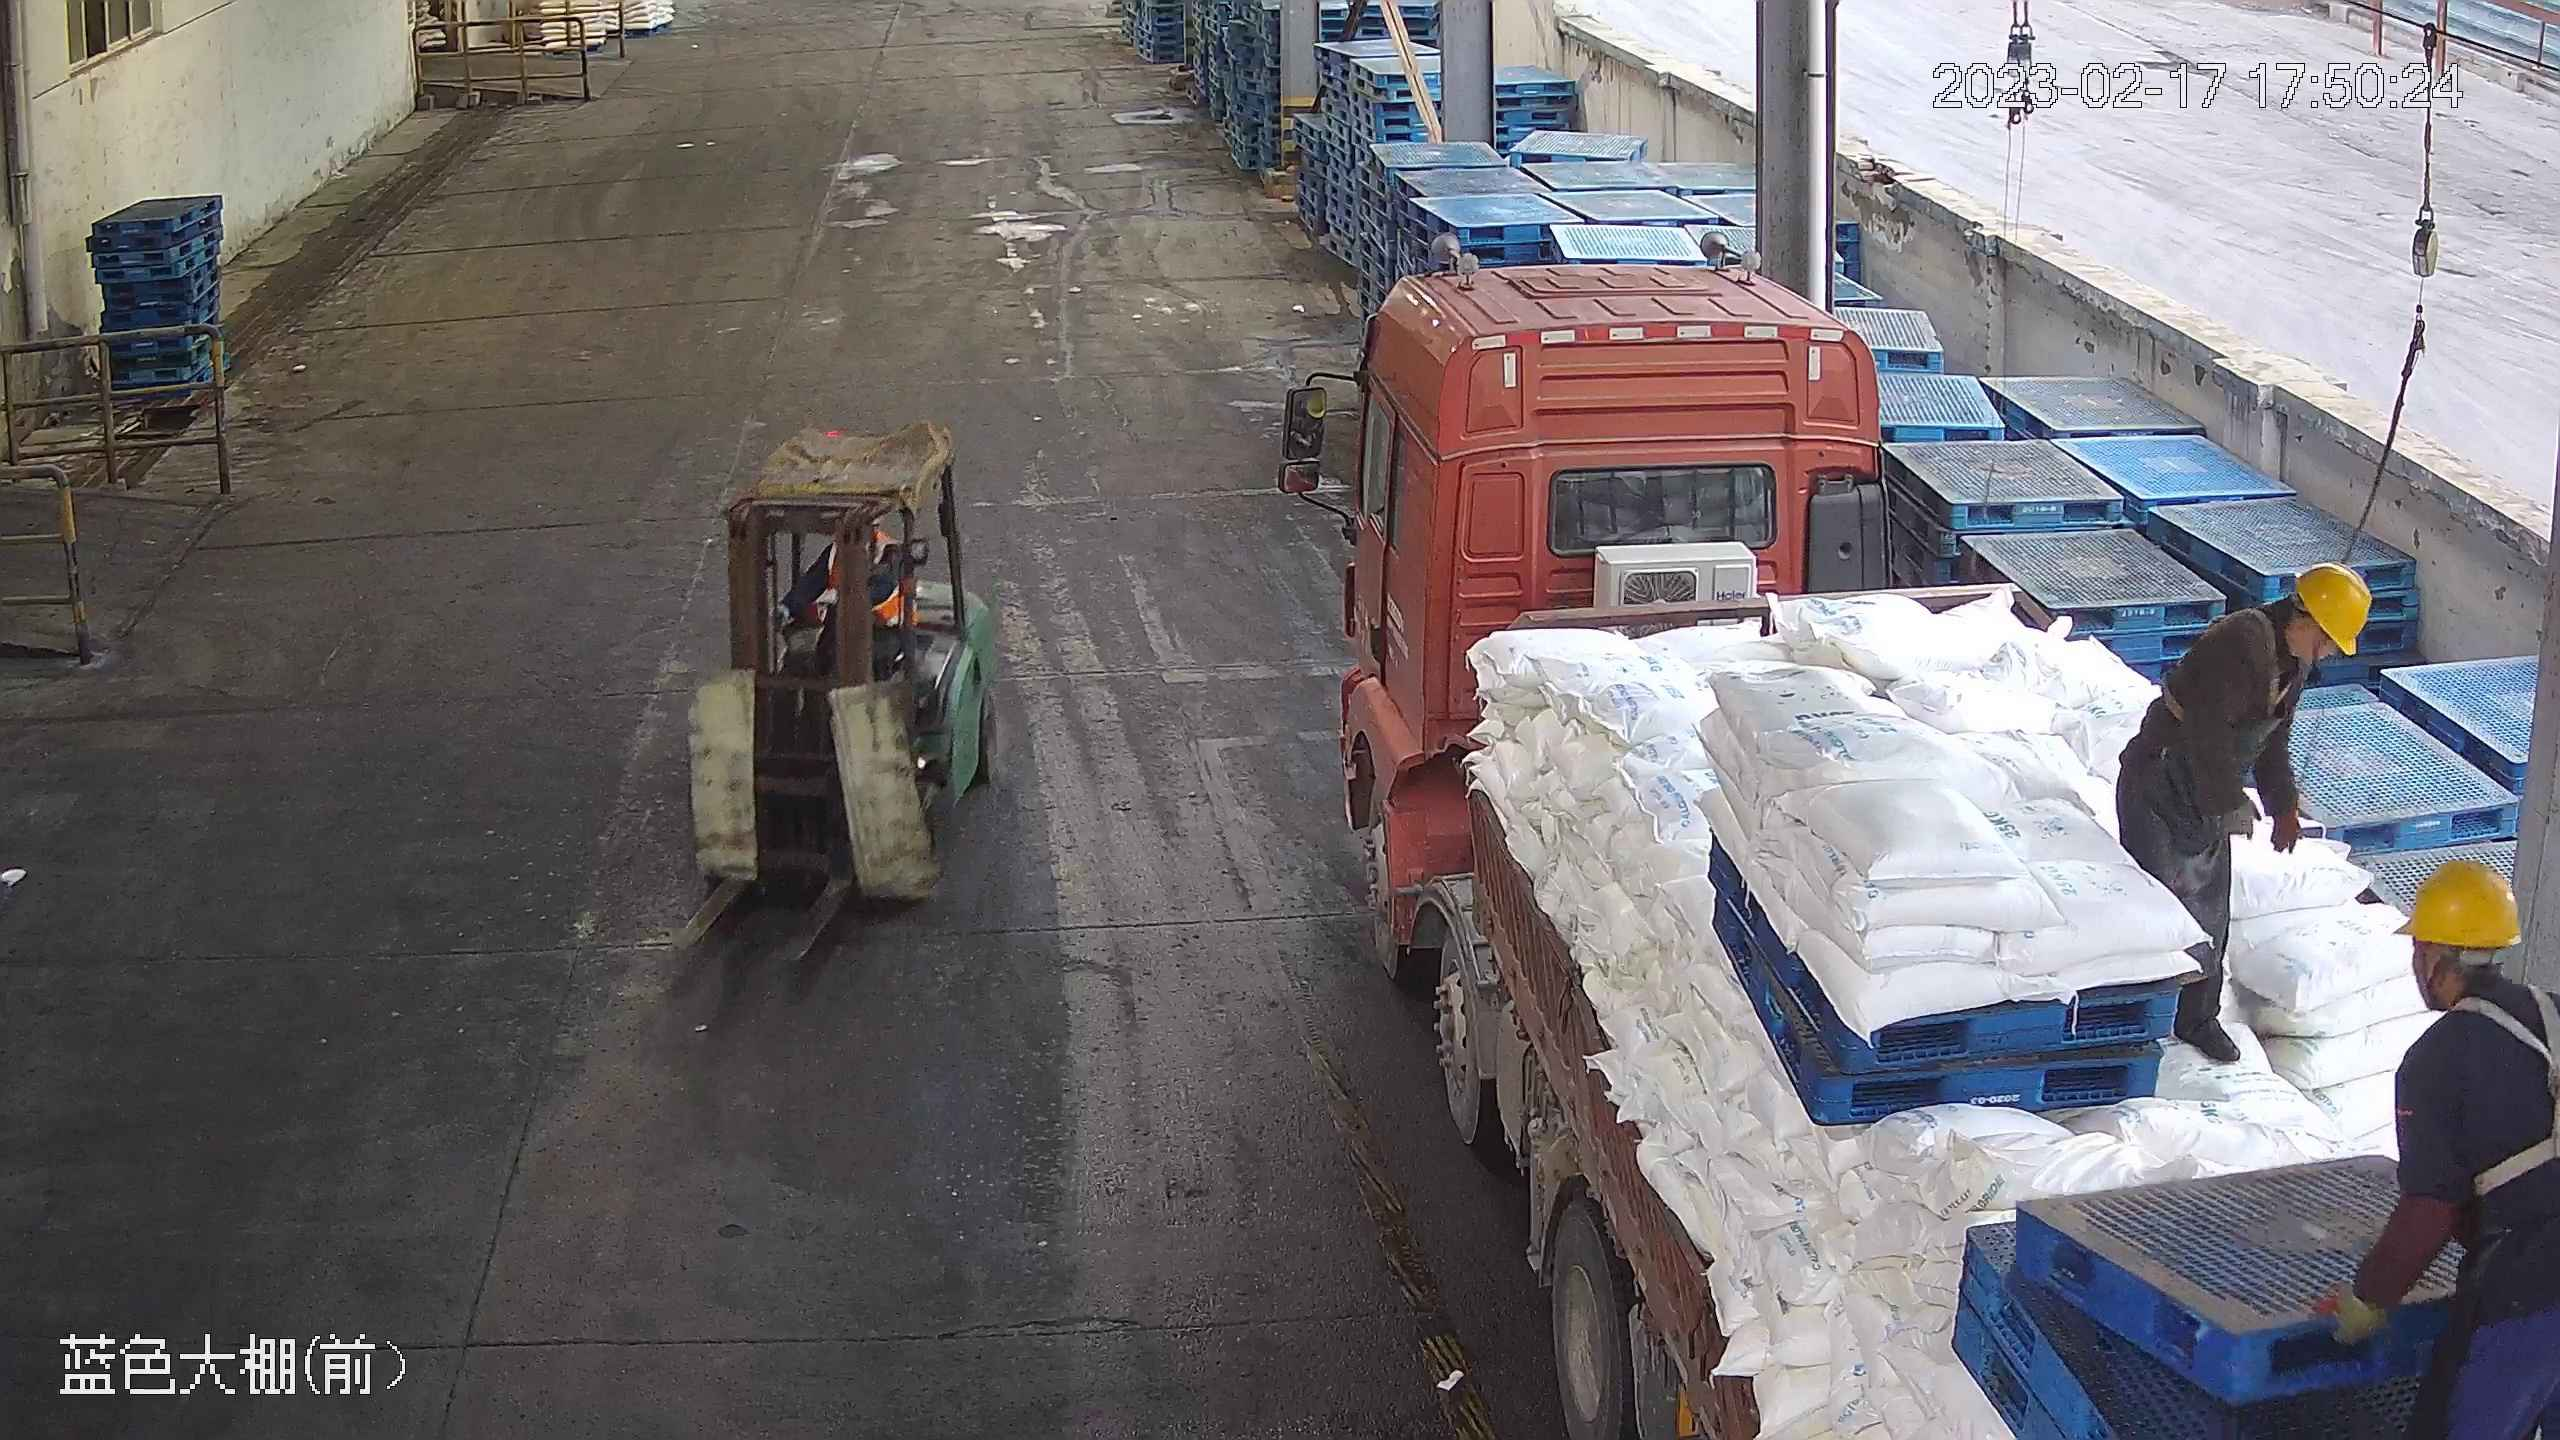belt: (2440, 985, 2560, 1194), (2167, 606, 2303, 734)
head: (2369, 855, 2559, 1109), (2194, 561, 2370, 709)
helmet: (2394, 855, 2521, 949), (2292, 561, 2372, 658)
people: (2109, 561, 2370, 1074), (2336, 860, 2560, 1437)
truck: (1270, 227, 2553, 1440)
